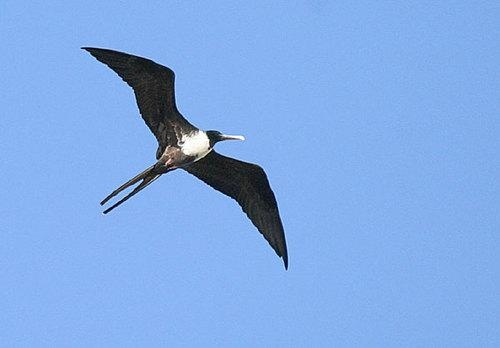bird: (72, 43, 291, 268)
